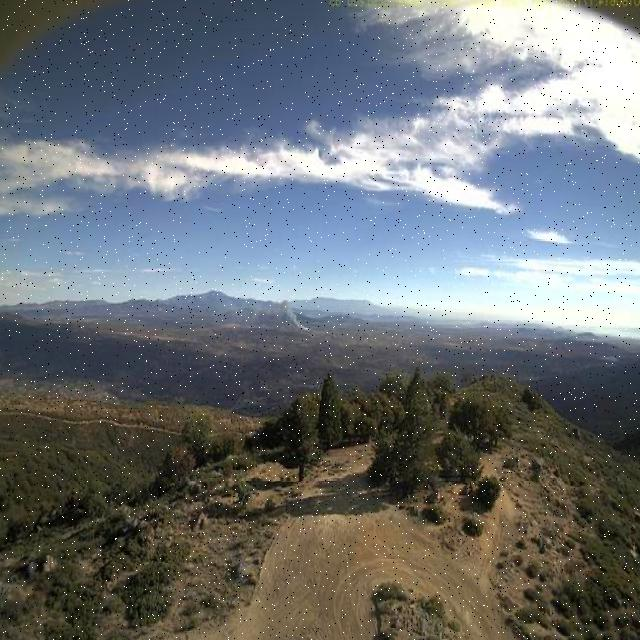smoke: (257, 297, 317, 335)
